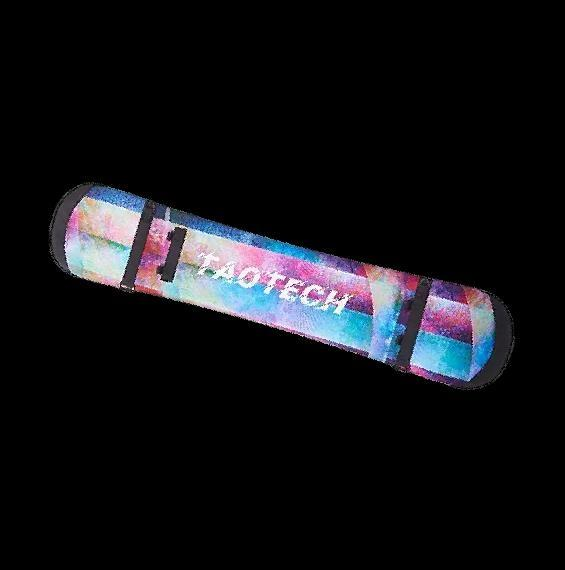Snowboard: (48, 180, 515, 391)
